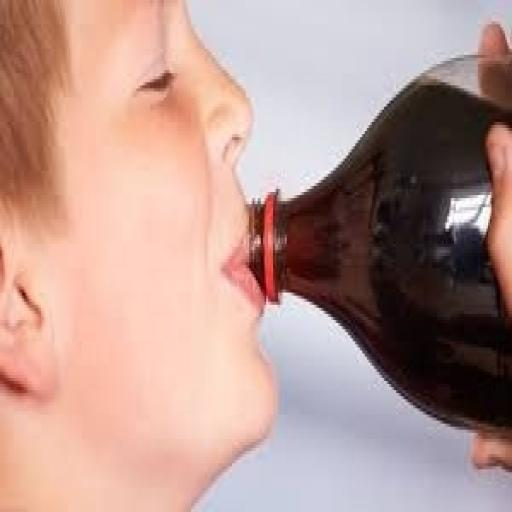drinking: (242, 49, 510, 436)
